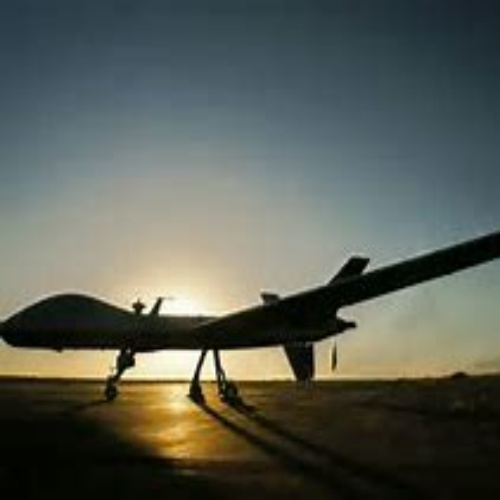uav303: (3, 230, 500, 401)
